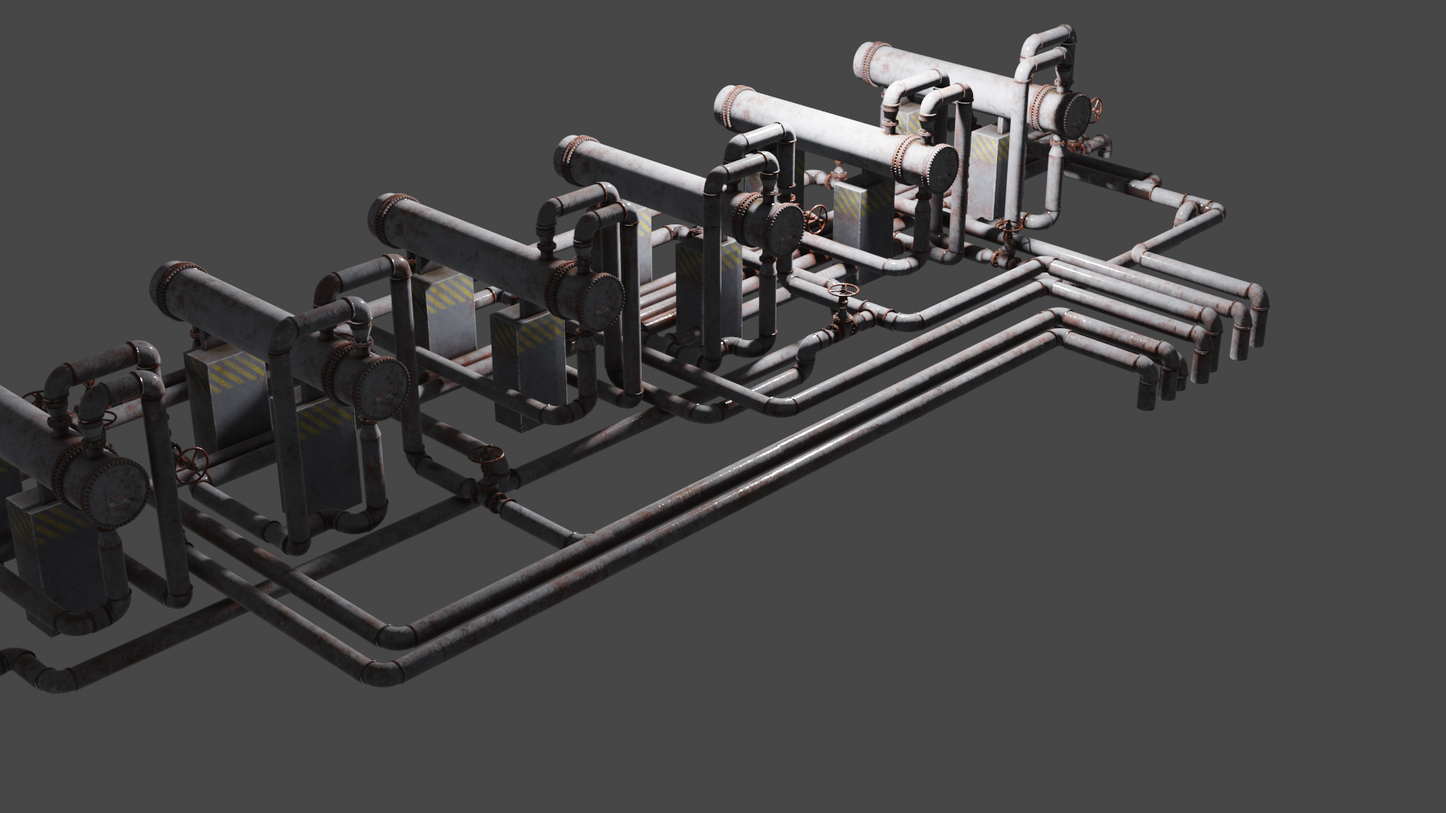HE_1: (0, 379, 151, 525)
HE_2: (143, 259, 413, 418)
HE_3: (360, 185, 621, 326)
HE_4: (550, 129, 808, 256)
HE_5: (711, 80, 962, 192)
HE_6: (847, 36, 1093, 135)
